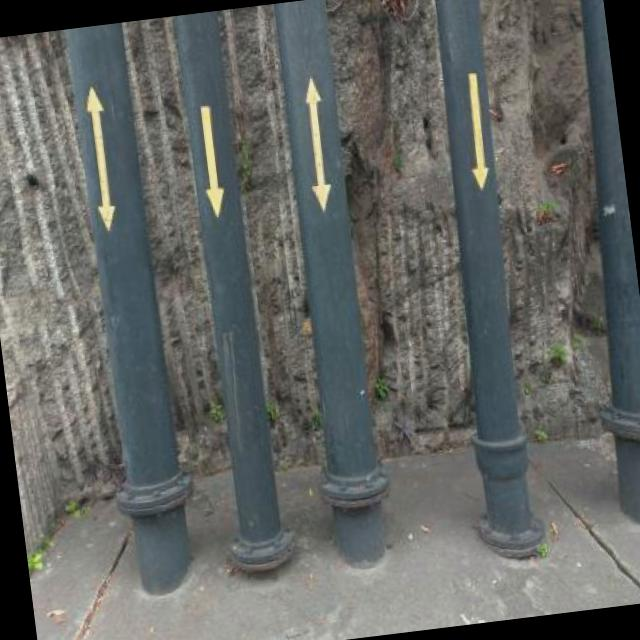gas: (66, 22, 192, 585), (271, 0, 386, 562), (173, 11, 285, 574), (431, 0, 538, 546)
